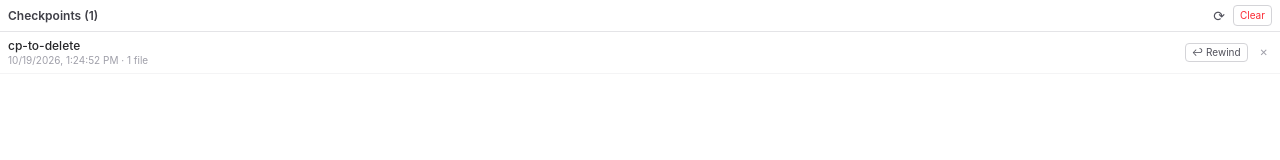
Test: CheckpointPanel (#435) › deletes a checkpoint after confirmation (#448)
Check: the text "cp-to-delete" is shown, box [8,38,80,53]
Click the button named "Delete checkpoint cp-to-delete": click(1264, 53) [1256,46,1272,59]
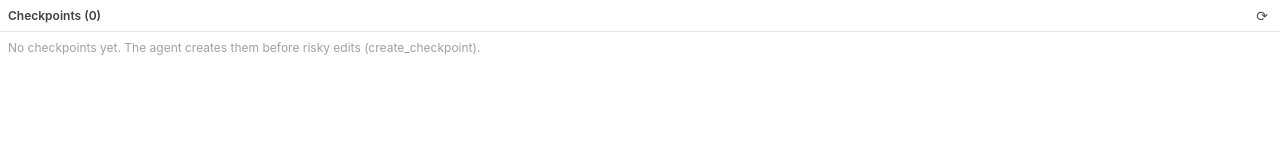
Check: the text "cp-to-delete" is gone
